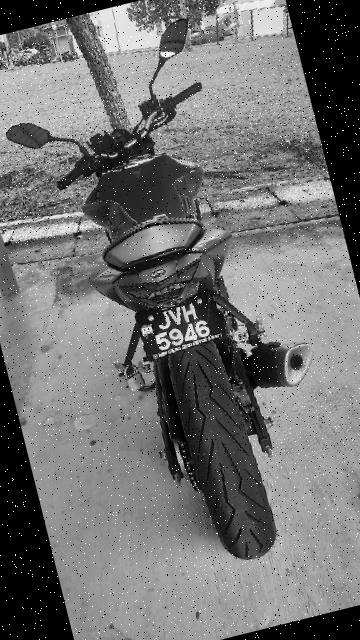License_Plate: (130, 287, 236, 368)
motorcycle: (1, 2, 360, 596)
